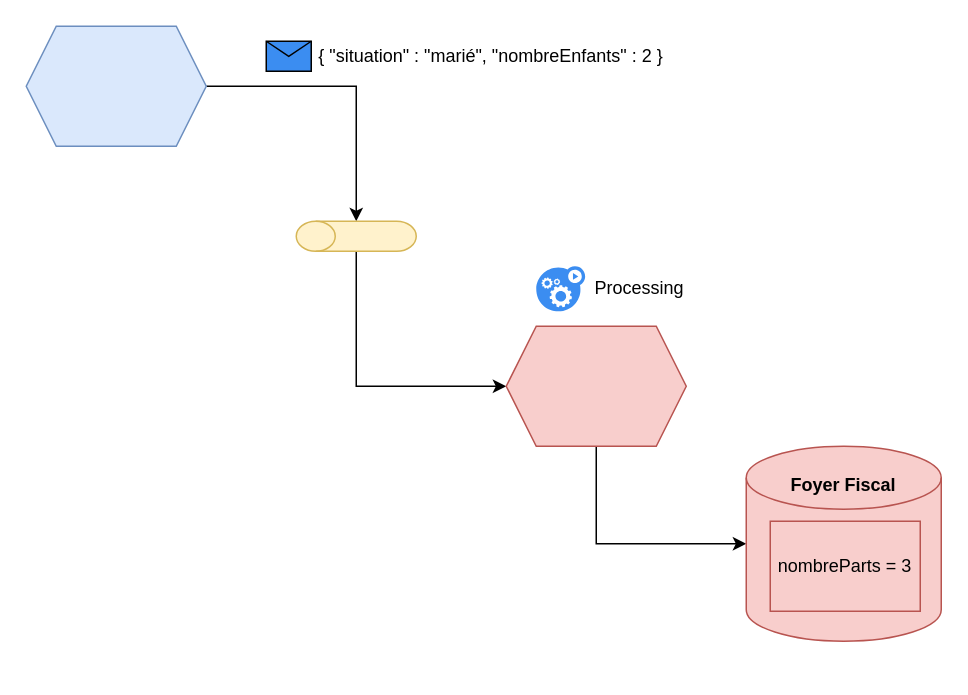
This 968x695 diagram has some shape labels left out. The centre of each missing label's shape, as x and y in pixels:
App 1: the point at 115,85
App 2: the point at 595,385
